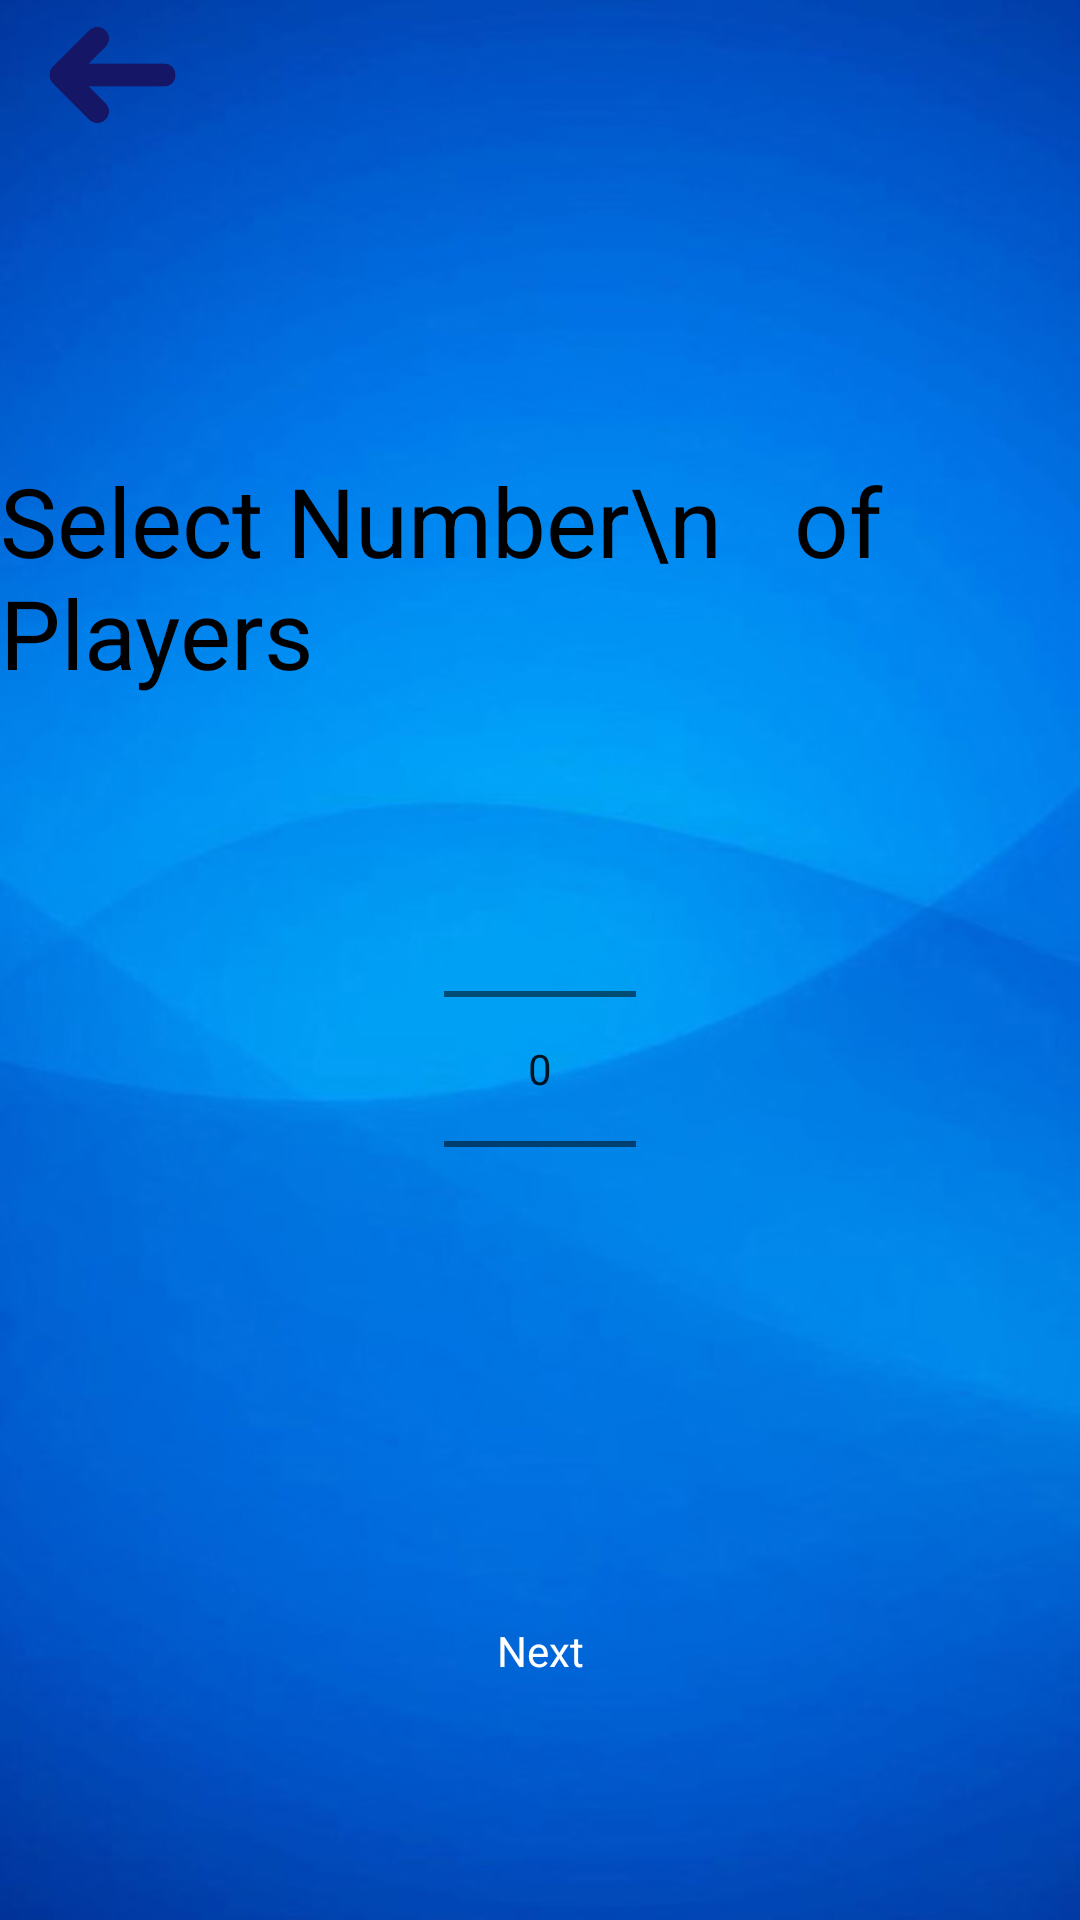

Icon click points for this 1080 × 1920 phone screenshot, format point (x, y):
backbut: point (88, 61)
